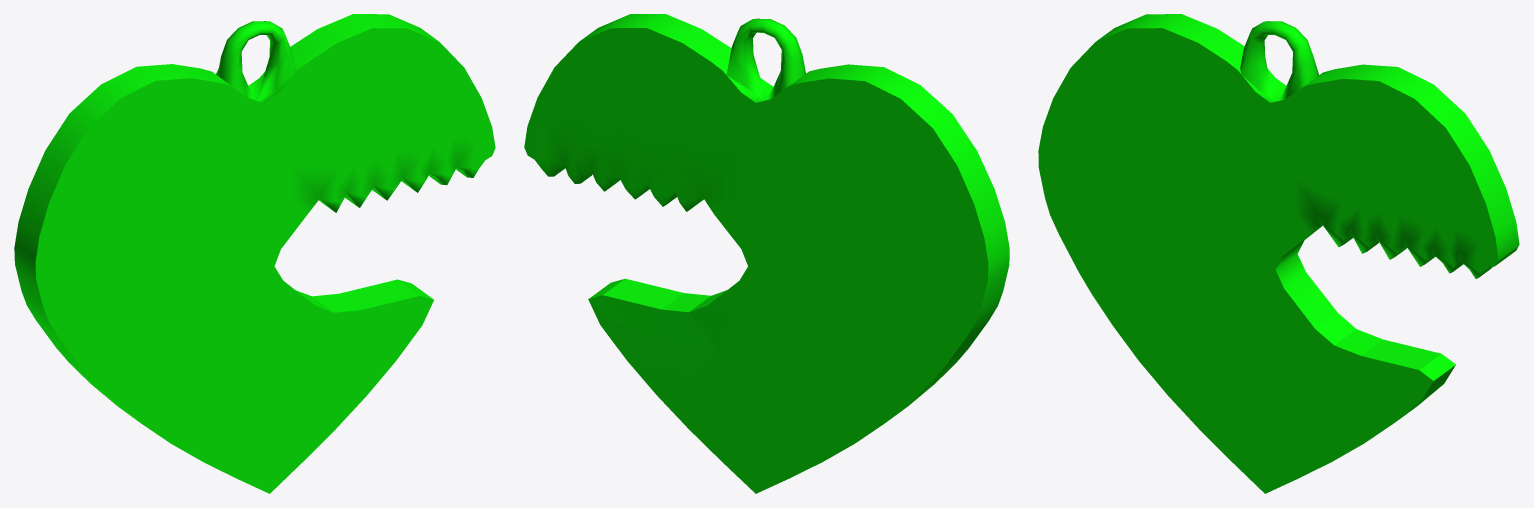
The model's file is COEUR_MESH.FBX.
3 renders of one model, left to right at view 1: azimuth 30°, elevation 25°; view 2: azimuth 150°, elevation 25°; view 3: azimuth 330°, elevation 25°, orthographic.
Visible parts, largest first — view 1: Coeur; view 2: Coeur; view 3: Coeur.
Part boxes in pixels (x1=…): Coeur: x1=14, y1=14, x2=495, y2=493; Coeur: x1=524, y1=14, x2=1009, y2=493; Coeur: x1=1038, y1=14, x2=1519, y2=493.
Size of the model in its own units: 5.26 by 5.04 by 0.4918.
